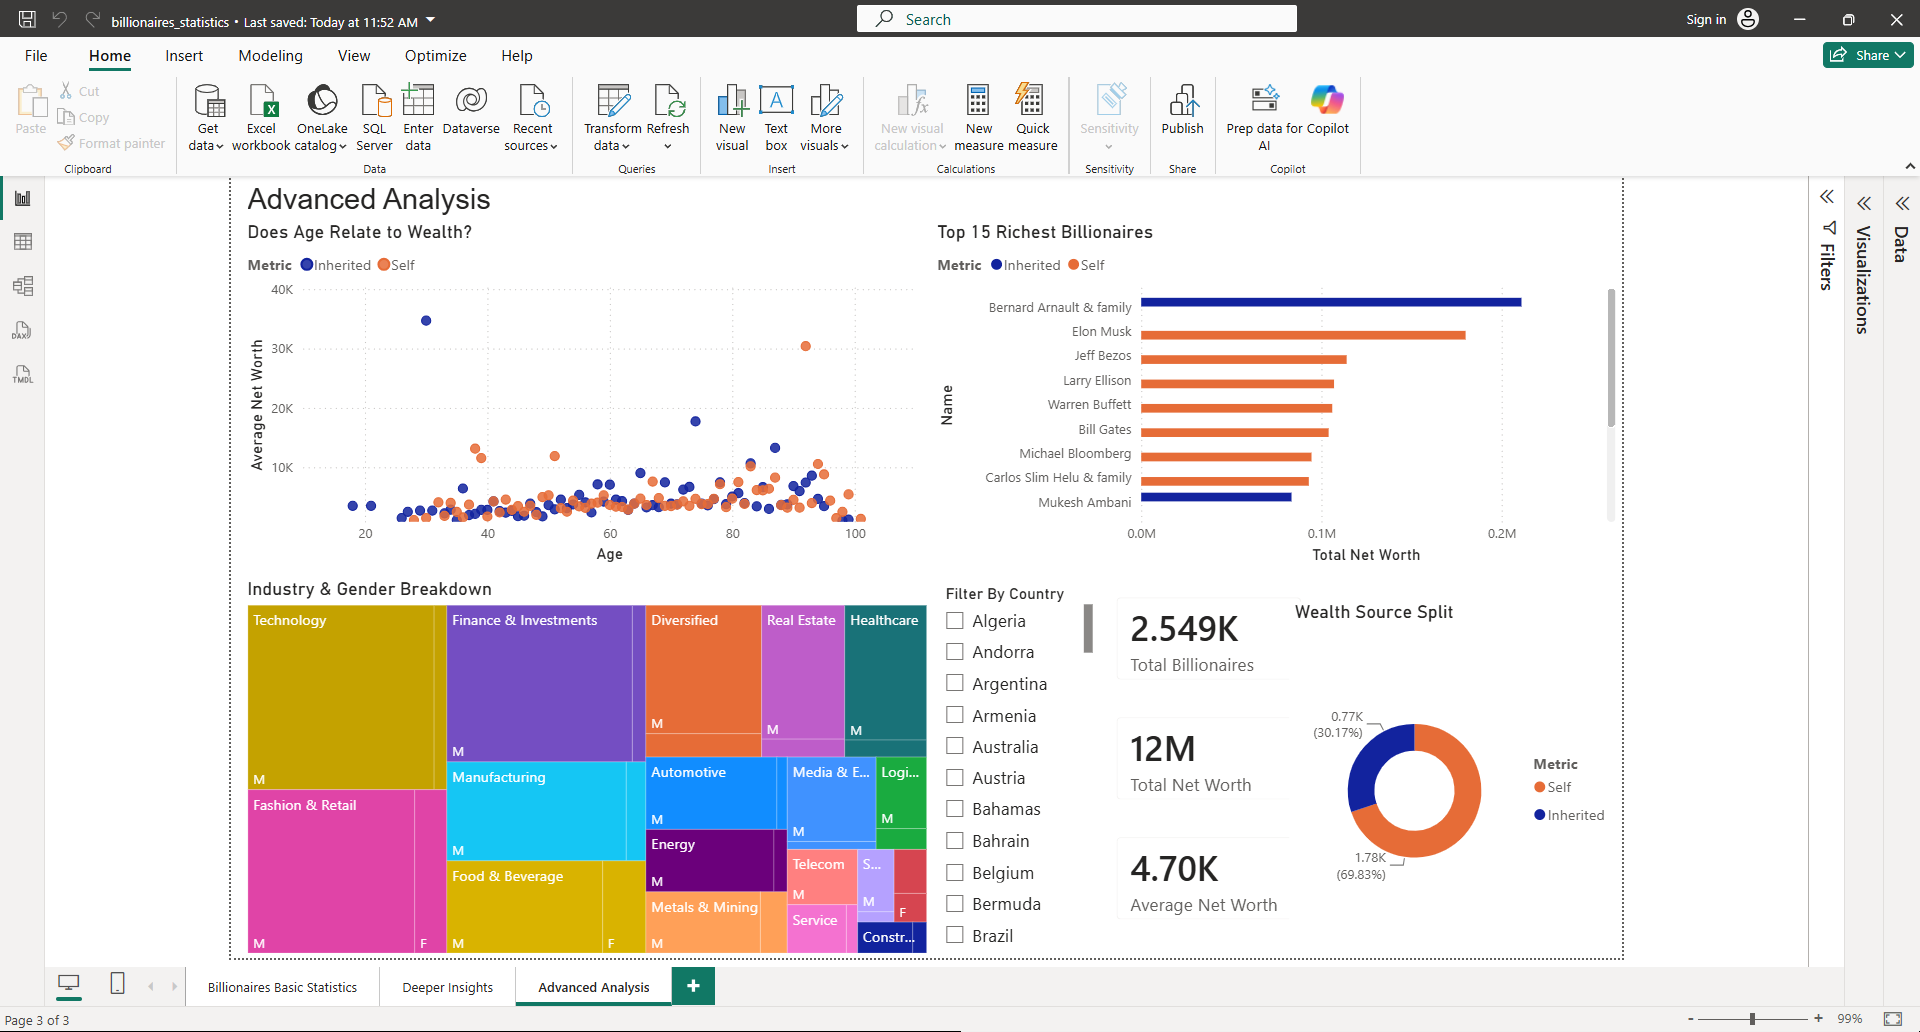

What the dashboard file says about the page in this screenshot:
{"tool":"powerbi","page":{"name":"Advanced Analysis","canvas":[1280,720],"ordinal":2},"visuals":[{"type":"textbox","box":[10.1,0,1269.5,41.5],"z":0},{"type":"scatterChart","title":"Does Age Relate to Wealth?","fields":{"X":["billionaire_statistics.age"],"Y":["Avg(billionaire_statistics.finalWorth)"],"Series":["billionaire_statistics.selfMade"]},"box":[10.1,41.5,634.7,318.9],"z":1},{"type":"treemap","title":"Industry & Gender Breakdown","fields":{"Group":["billionaire_statistics.industries"],"Details":["billionaire_statistics.gender"],"Values":["Sum(billionaire_statistics.finalWorth)"]},"box":[10.1,370.5,634.7,349.3],"z":2},{"type":"clusteredBarChart","title":"Top 15 Richest Billionaires","fields":{"Category":["billionaire_statistics.personName"],"Y":["Sum(billionaire_statistics.finalWorth)"],"Series":["billionaire_statistics.selfMade"]},"box":[645,42,634,319],"z":3},{"type":"slicer","fields":{"Values":["billionaire_statistics.country"]},"box":[644.9,370.5,152.9,349.3],"z":4},{"type":"cardVisual","fields":{"Data":["CountNonNull(billionaire_statistics.personName)"]},"box":[797.7,370.5,204.5,110.3],"z":5},{"type":"cardVisual","fields":{"Data":["Sum(billionaire_statistics.finalWorth)"]},"box":[797.7,480.9,204.5,110.3],"z":6},{"type":"cardVisual","fields":{"Data":["Avg(billionaire_statistics.finalWorth)"]},"box":[797.7,591.2,204.5,110.3],"z":7},{"type":"donutChart","title":"Wealth Source Split","fields":{"Y":["CountNonNull(billionaire_statistics.personName)"],"Category":["billionaire_statistics.selfMade"]},"box":[973.9,391.8,304.7,328],"z":8}]}

Visuals, with their boxes on the page's 1280x720 design canvas (x1, y1, x2, y2). These are canvas units, not pixel positions in the 1920x1032 screenshot, which may show the page scaled, cropped or inside an application window:
textbox: (10, 0, 1280, 42)
"Does Age Relate to Wealth?" scatterChart: (10, 42, 645, 360)
"Industry & Gender Breakdown" treemap: (10, 370, 645, 720)
"Top 15 Richest Billionaires" clusteredBarChart: (645, 42, 1279, 361)
slicer - billionaire_statistics.country: (645, 370, 798, 720)
cardVisual - CountNonNull(billionaire_statistics.personName): (798, 370, 1002, 481)
cardVisual - Sum(billionaire_statistics.finalWorth): (798, 481, 1002, 591)
cardVisual - Avg(billionaire_statistics.finalWorth): (798, 591, 1002, 702)
"Wealth Source Split" donutChart: (974, 392, 1279, 720)
